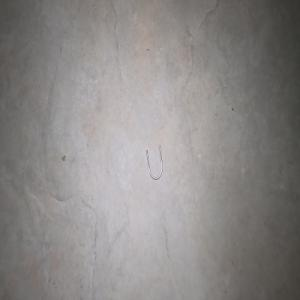ClampPart: (145, 143, 163, 180)
